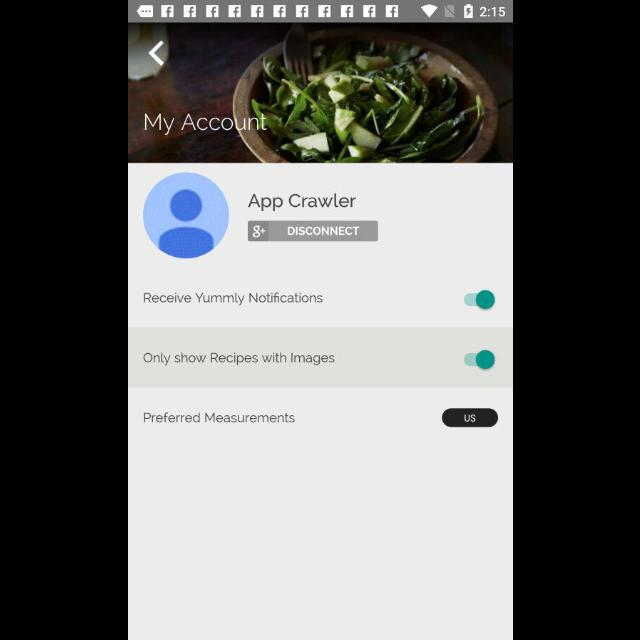icon: (143, 172, 230, 260), (148, 41, 164, 68)
switch: (464, 350, 494, 370), (464, 290, 494, 310)
text: (128, 24, 512, 164), (144, 114, 266, 136), (143, 352, 334, 366), (144, 292, 322, 306), (247, 194, 356, 212), (143, 412, 294, 422)
textbutton: (248, 220, 378, 242), (440, 408, 498, 428)
uppertaskbar: (128, 1, 512, 23)
